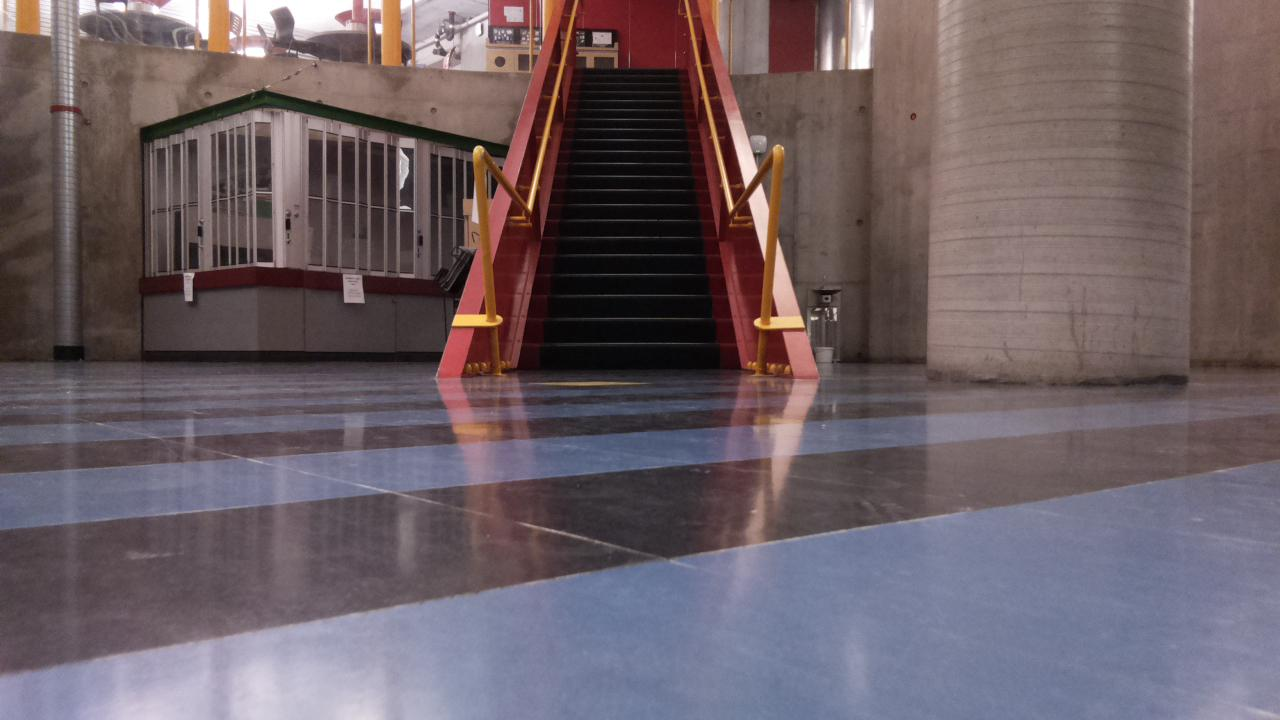sign: (493, 28, 611, 47)
stair: (513, 68, 744, 370)
